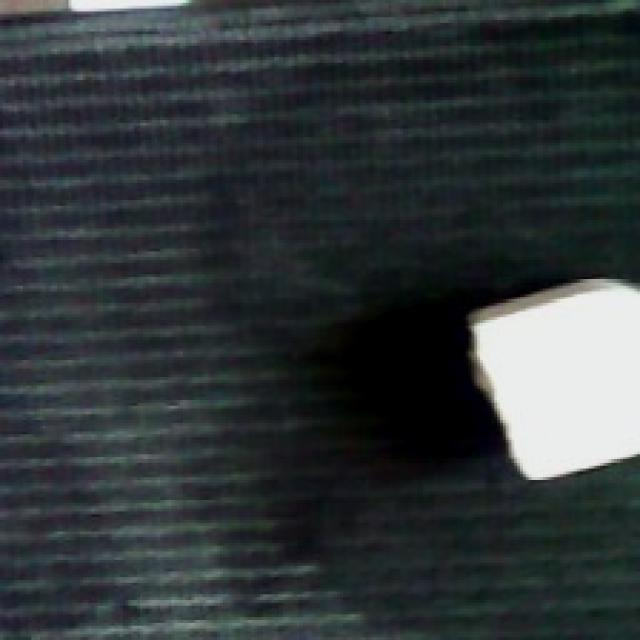defected: (463, 274, 640, 489)
